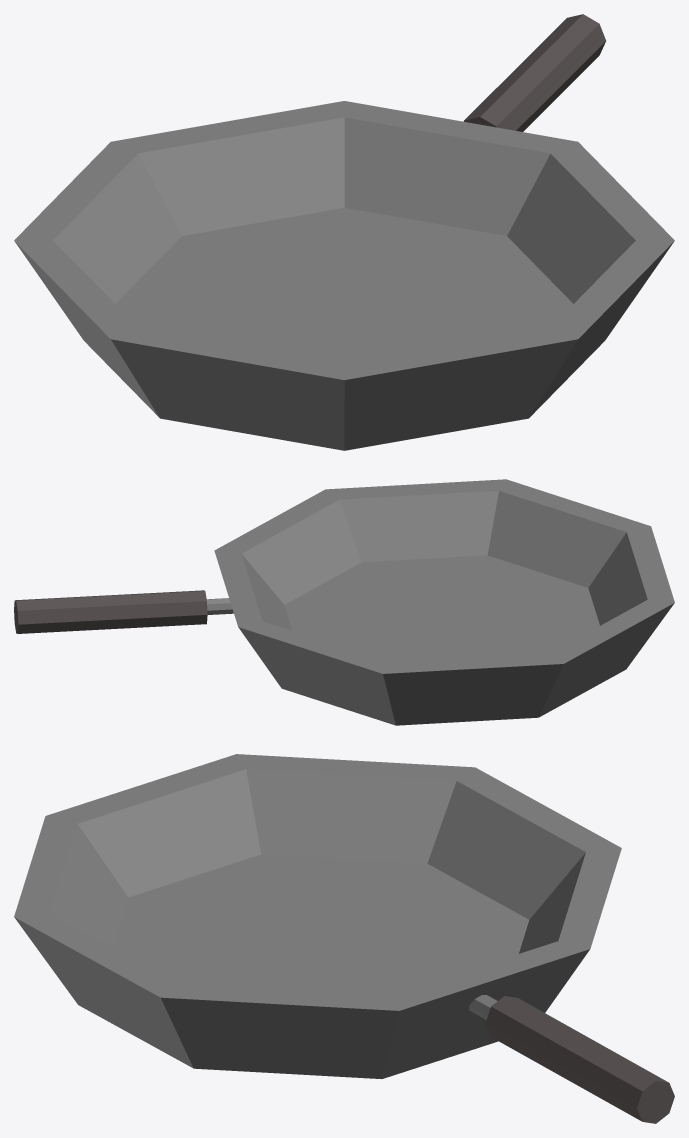
File: pan.fbx
3 renders of one model, top to bottom at view 1: azimuth 30°, elevation 25°; view 2: azimuth 150°, elevation 25°; view 3: azimuth 270°, elevation 25°, orthographic. The views are drawn at different scales.
Visible parts, largest first — view 1: polySurface268; view 2: polySurface268; view 3: polySurface268.
Boxes of the visible parts, box(x1,y1,x2,y2) form: polySurface268: box(14, 14, 674, 450); polySurface268: box(14, 479, 674, 725); polySurface268: box(14, 754, 674, 1123).
Size of the model in its own units: 41.69 by 5.65 by 35.51.
